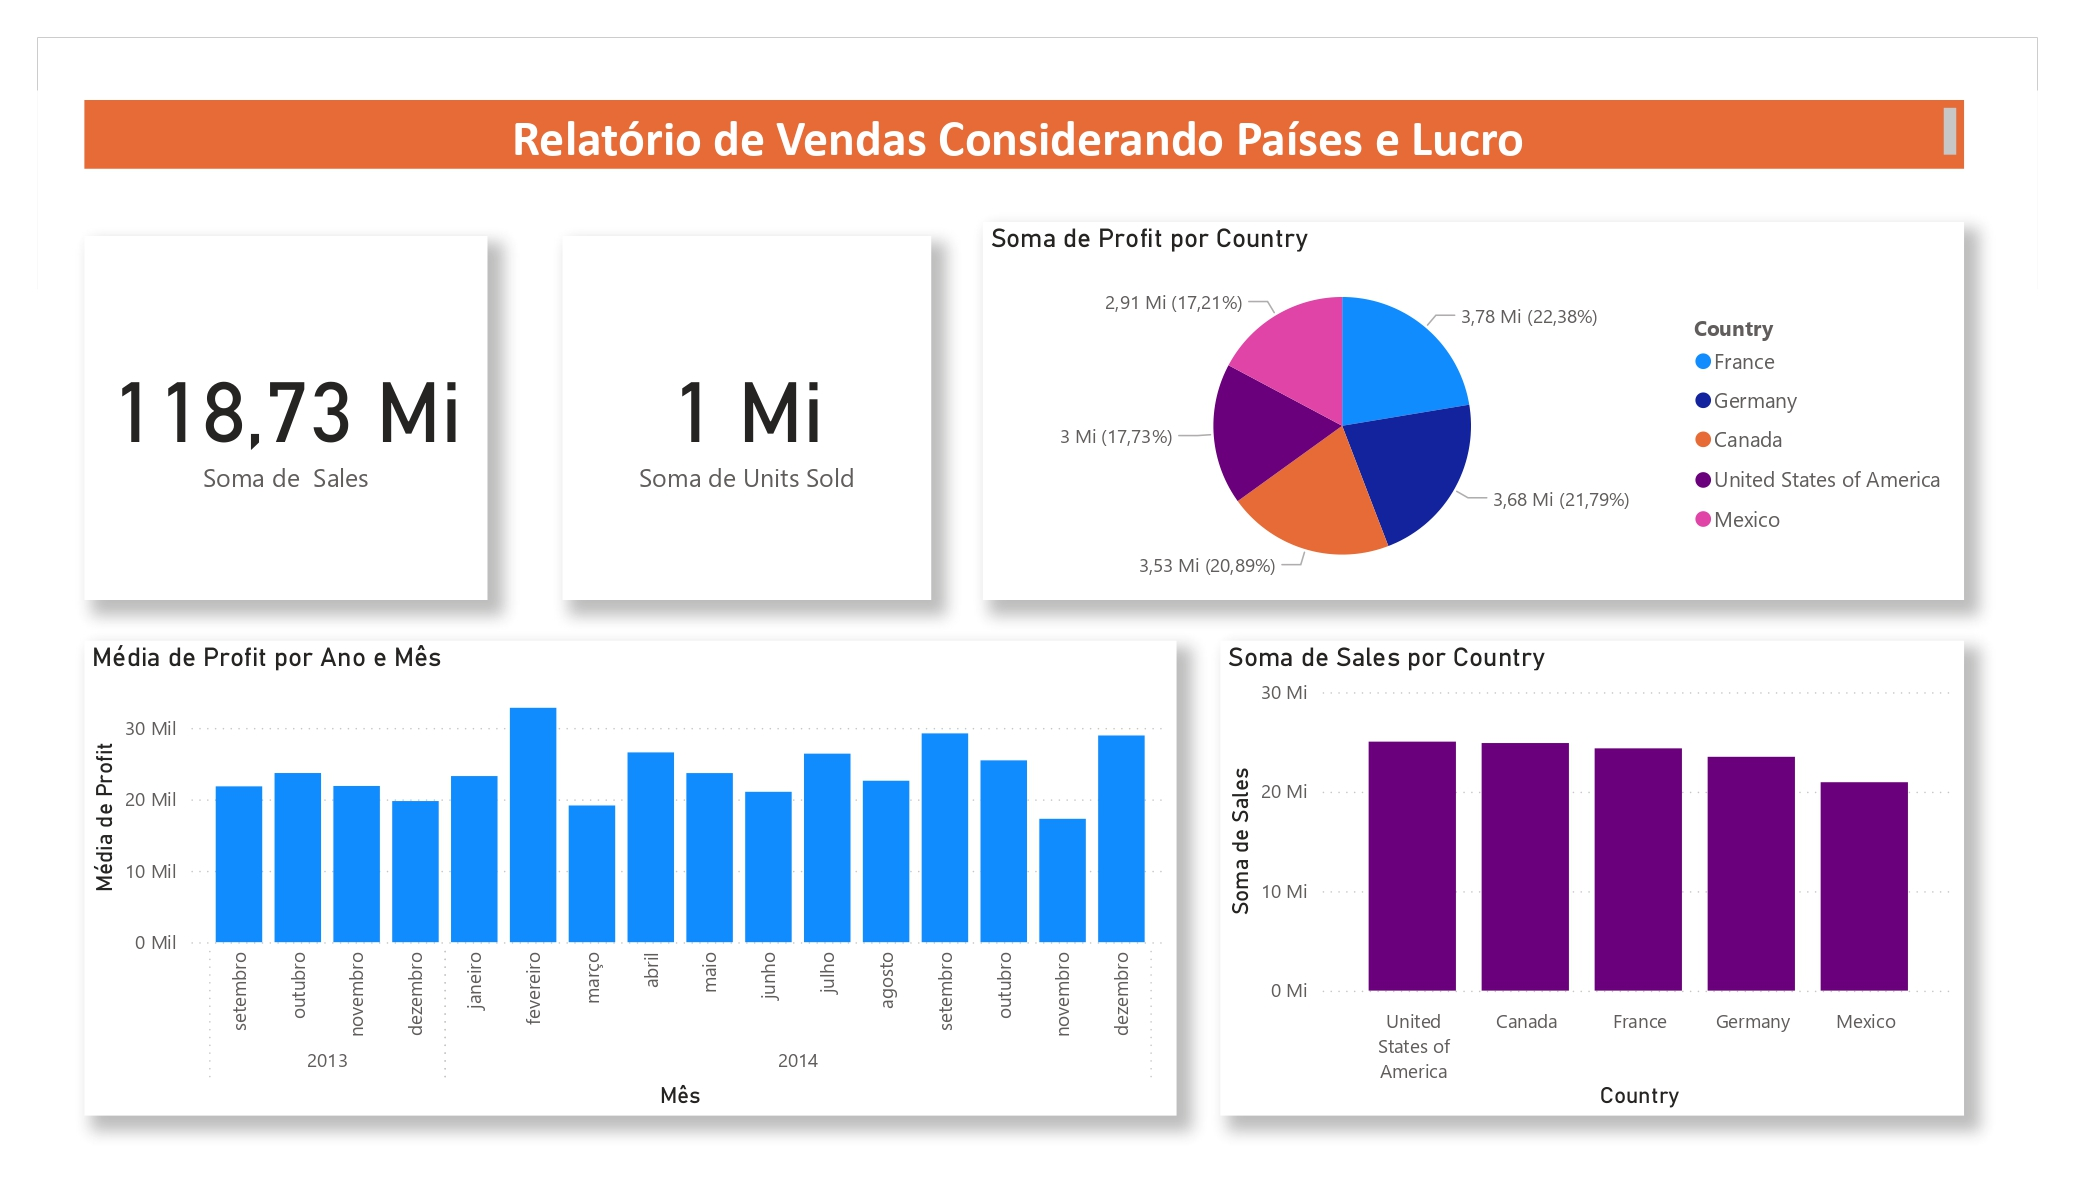

Layout of this report page (visuals, bound fields, positions):
{"tool":"powerbi","page":{"name":"Página 2","canvas":[1280,720],"ordinal":1},"visuals":[{"type":"textbox","box":[30.2,40.3,1202.4,43.2],"z":0},{"type":"card","fields":{"Values":["Sum(financials. Sales)"]},"box":[30.2,126.7,257.8,233.3],"z":1000},{"type":"card","fields":{"Values":["Sum(financials.Units Sold)"]},"box":[335.5,126.7,236.2,233.3],"z":2000},{"type":"pieChart","fields":{"Category":["financials.Country"],"Y":["Sum(financials.Profit)"]},"box":[604.8,118.1,627.8,241.9],"z":3000},{"type":"clusteredColumnChart","fields":{"Y":["Avg(financials.Profit)"],"Category":["financials.Date.Variation.Hierarquia de datas.Ano","financials.Date.Variation.Hierarquia de datas.Mês"]},"box":[30.2,385.9,698.4,303.8],"z":4000},{"type":"clusteredColumnChart","fields":{"Category":["financials.Country"],"Y":["Sum(financials. Sales)"]},"box":[757.4,385.9,475.2,303.8],"z":5000}]}

Visuals, with their boxes in screenshot pixels (x1, y1, x2, y2):
textbox: [85, 100, 1963, 168]
card - Sum(financials. Sales): [85, 235, 488, 600]
card - Sum(financials.Units Sold): [562, 235, 931, 600]
pieChart - financials.Country x Sum(financials.Profit): [982, 222, 1963, 600]
clusteredColumnChart - Avg(financials.Profit) x financials.Date.Variation.Hierarquia de datas.Ano: [85, 640, 1176, 1115]
clusteredColumnChart - financials.Country x Sum(financials. Sales): [1221, 640, 1963, 1115]
